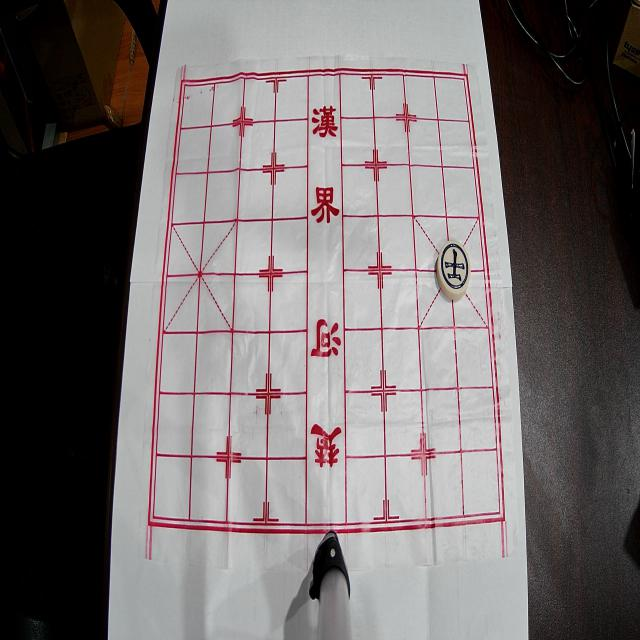black-guard: (436, 240, 471, 299)
